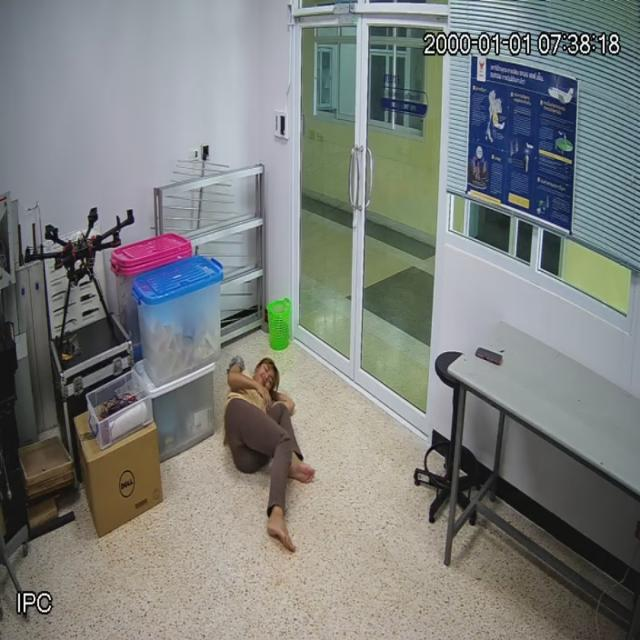fall: (224, 350, 300, 551)
